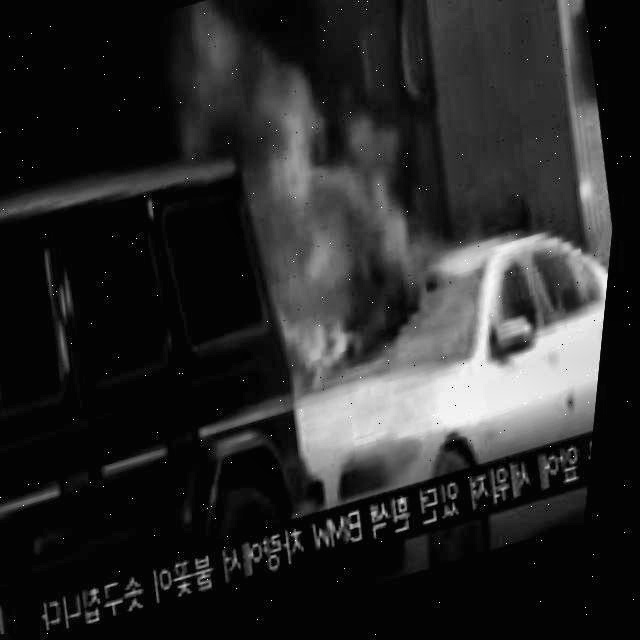Fire: (113, 0, 495, 437)
